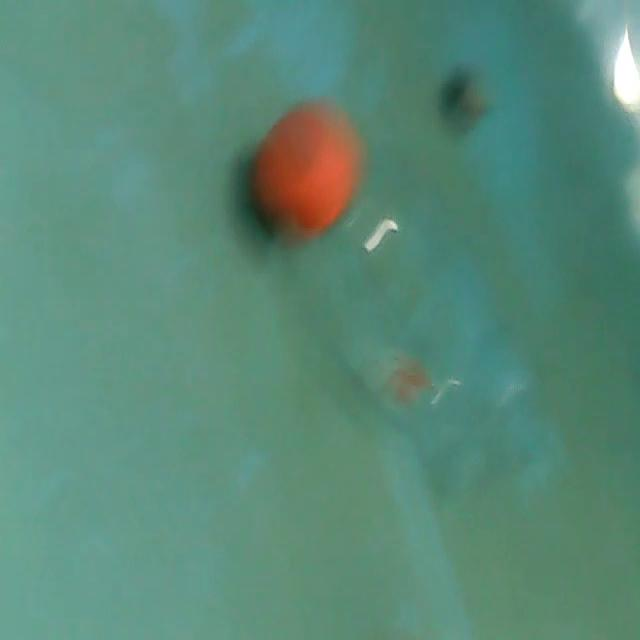plastic bottle: (236, 106, 586, 504)
